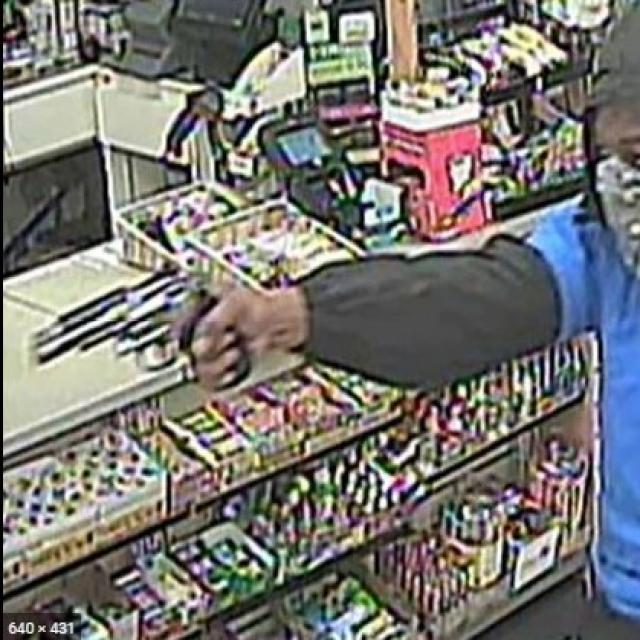gun: (24, 264, 258, 392)
